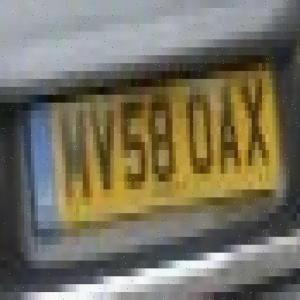Plate: (22, 65, 290, 224)
